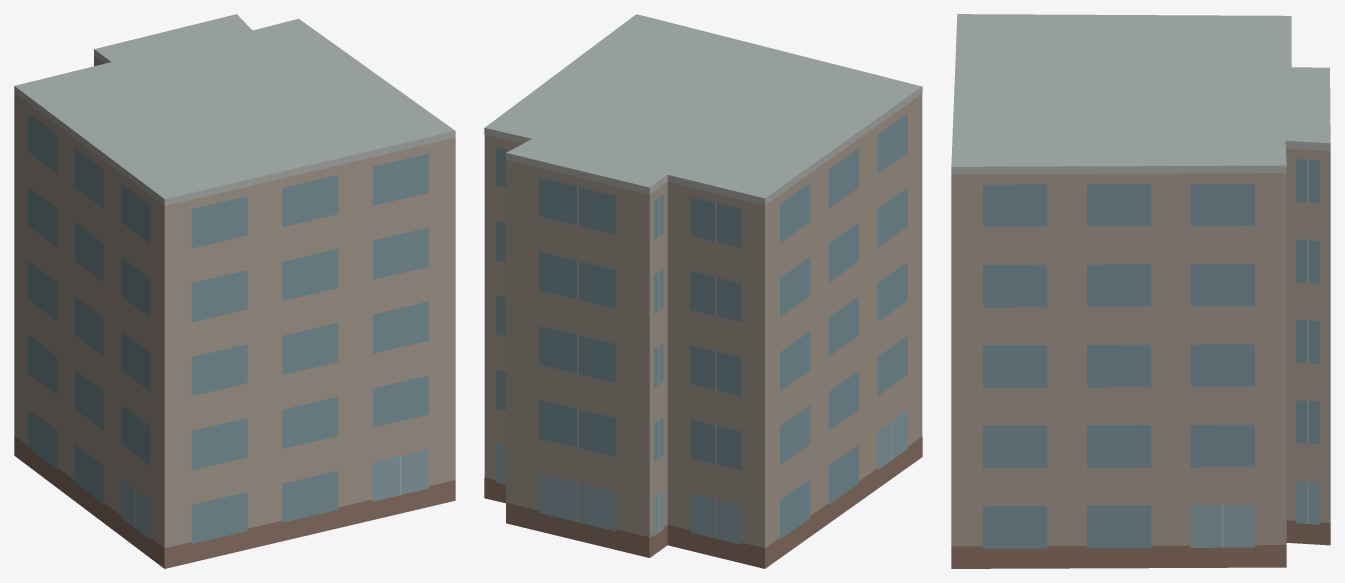
Rendered from survey-upis-32823784.glb.
3 views of the same model, side by side, from view 1: azimuth 30°, elevation 25°; view 2: azimuth 150°, elevation 25°; view 3: azimuth 270°, elevation 25° (orthographic). The views are drawn at different scales.
Visible parts, largest first — view 1: survey-upis-32823784.tmp; view 2: survey-upis-32823784.tmp; view 3: survey-upis-32823784.tmp.
Boxes of the visible parts, left/top/right/bottom form: survey-upis-32823784.tmp: left=14, top=14, right=455, bottom=568; survey-upis-32823784.tmp: left=484, top=14, right=922, bottom=568; survey-upis-32823784.tmp: left=951, top=14, right=1330, bottom=568.
Bounding box in the file's own units: 10.66 × 13.05 × 11.17.
